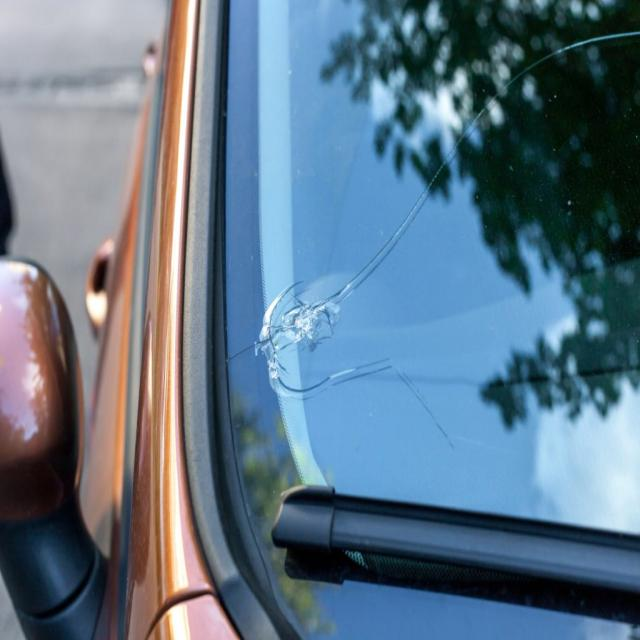crack: (246, 21, 640, 454)
